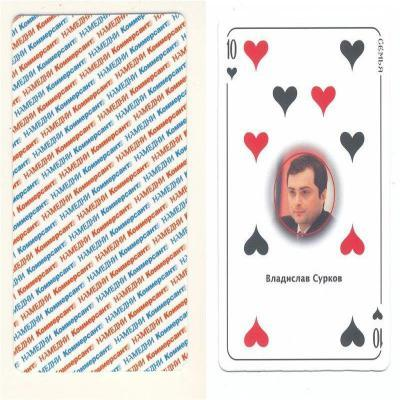graphics: (12, 13, 188, 374), (218, 15, 394, 373)
